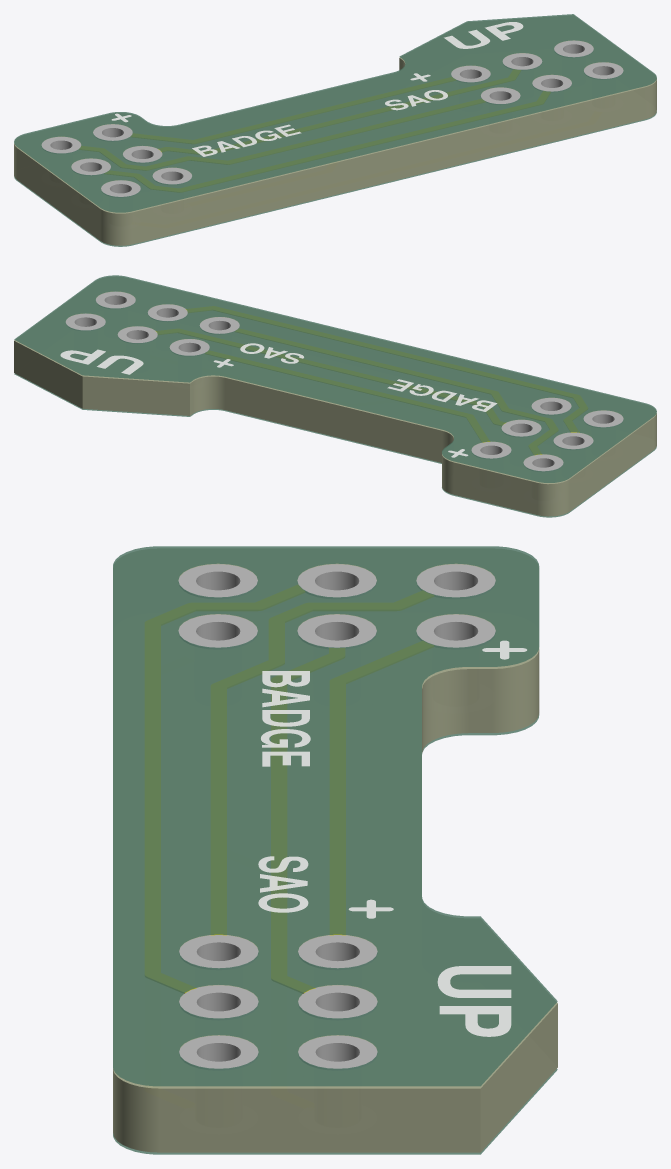
The model's file is sao-up.glb.
3 renders of one model, top to bottom at view 1: azimuth 30°, elevation 25°; view 2: azimuth 150°, elevation 25°; view 3: azimuth 270°, elevation 25°, orthographic. The views are drawn at different scales.
Parts seen in each view (by area): view 1: =>[0:1:1:8], =>[0:1:1:6], =>[0:1:1:2], =>[0:1:1:4]; view 2: =>[0:1:1:8], =>[0:1:1:6], =>[0:1:1:2], =>[0:1:1:4]; view 3: =>[0:1:1:8], =>[0:1:1:6], =>[0:1:1:2], =>[0:1:1:4].
Part boxes in pixels (x1,y1,x2,y2): =>[0:1:1:8]: [14, 15, 656, 245]; =>[0:1:1:6]: [14, 14, 656, 246]; =>[0:1:1:2]: [41, 40, 623, 197]; =>[0:1:1:4]: [111, 22, 523, 156]; =>[0:1:1:8]: [14, 277, 656, 516]; =>[0:1:1:6]: [14, 275, 656, 517]; =>[0:1:1:2]: [65, 291, 623, 471]; =>[0:1:1:4]: [60, 343, 497, 457]; =>[0:1:1:8]: [113, 549, 557, 1152]; =>[0:1:1:6]: [113, 546, 557, 1154]; =>[0:1:1:2]: [145, 564, 495, 1070]; =>[0:1:1:4]: [258, 640, 526, 1036].
Size of the model in its own units: 0.0273 by 0.00166 by 0.0095.
Materials: 4 (4 with a texture image).
